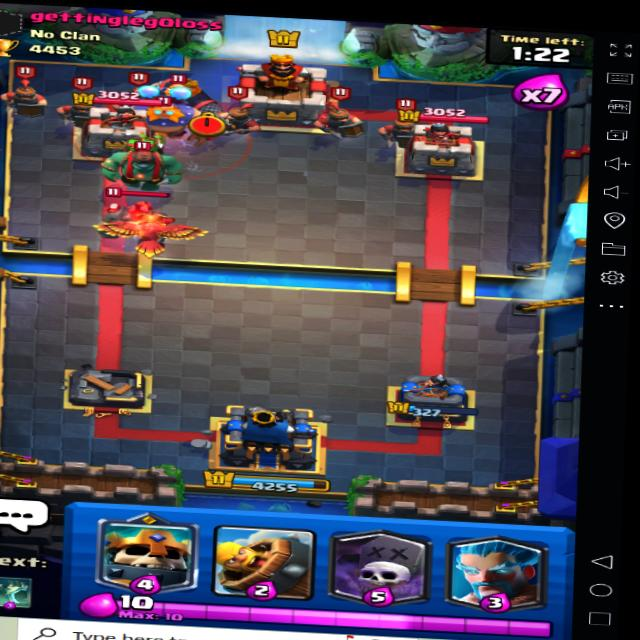electro-giant: (111, 79, 220, 149)
goblin-giant: (102, 132, 184, 195)
golem: (90, 183, 181, 242)
royal-giant: (152, 66, 233, 129)
royal-recruits: (304, 89, 368, 148), (1, 63, 58, 123), (221, 93, 270, 146), (59, 75, 103, 128), (377, 102, 421, 153)
